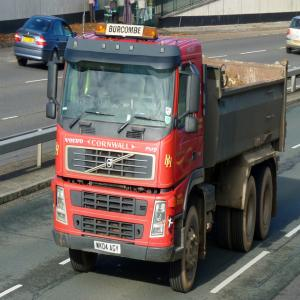Vehicle-registration-plate: (94, 241, 122, 254), (24, 37, 34, 45), (293, 41, 300, 46)
